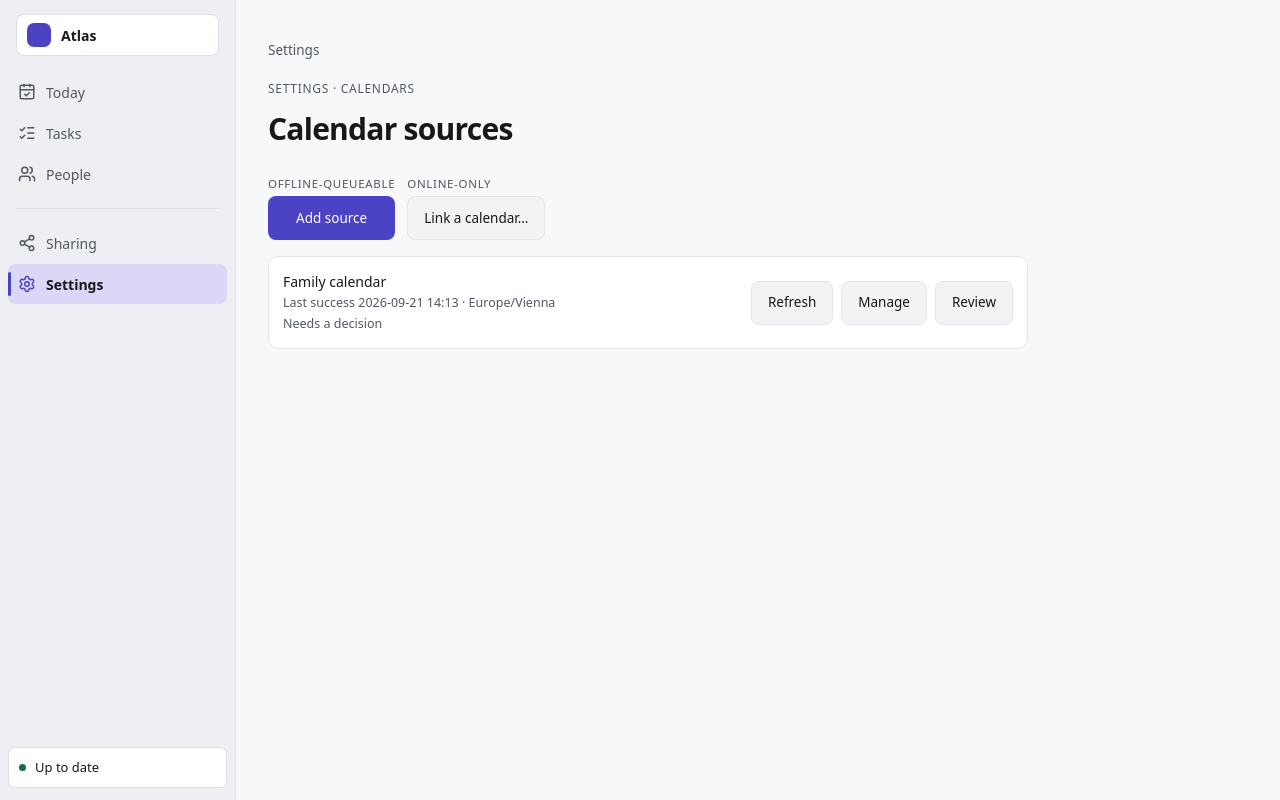
Test: Manage: queued settings (D-13a-8, D-13a-12) › a version conflict offers Review, and Save there REPLACES the conflicted draft (supersede), never adds another
Expected: the heading "Calendar sources" is shown, [268,108,513,149]
Expected: the list item "Family calendar" shows "Needs a decision", [283,315,382,332]
Step 1. Click the button "Review" → point(974, 302), box [935,280,1013,324]
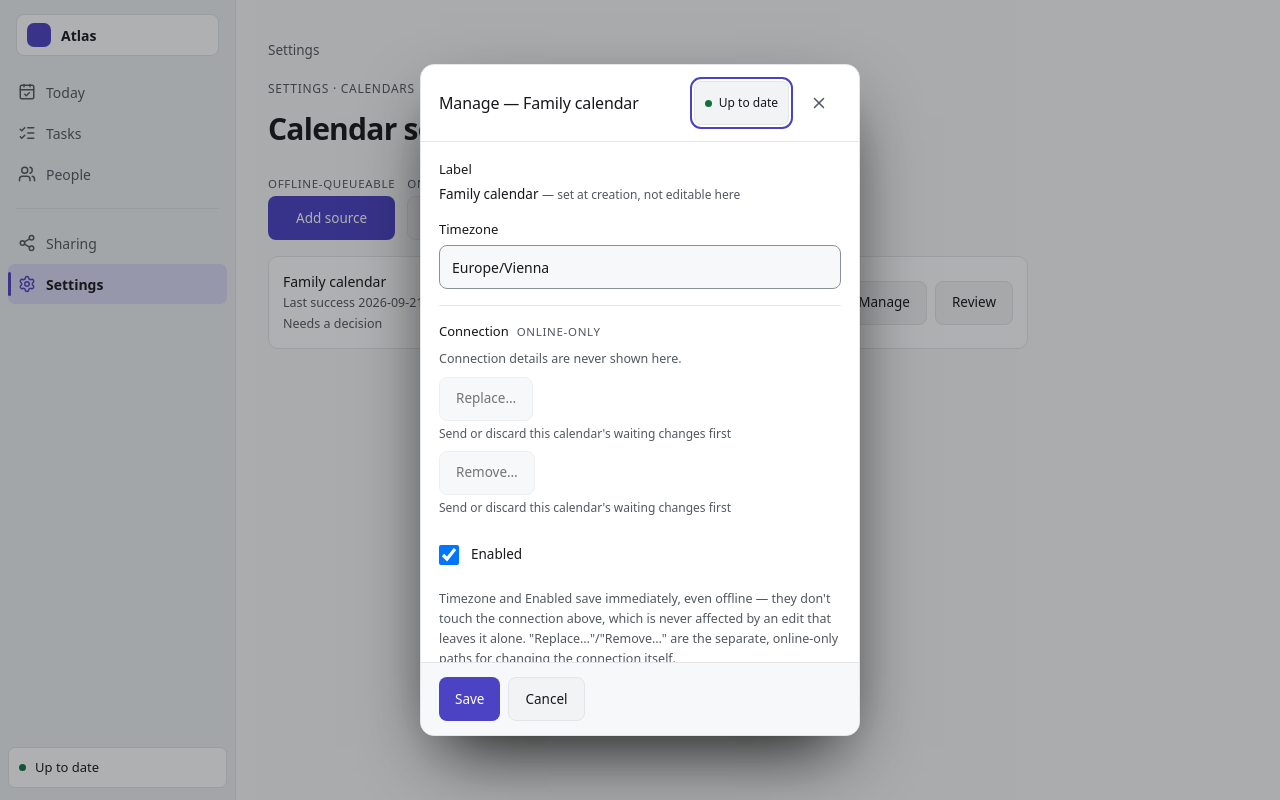
Step 2. Replace the text in the field labelled "Timezone" with "Asia/Tokyo" → point(640, 267), box [439,245,841,289]
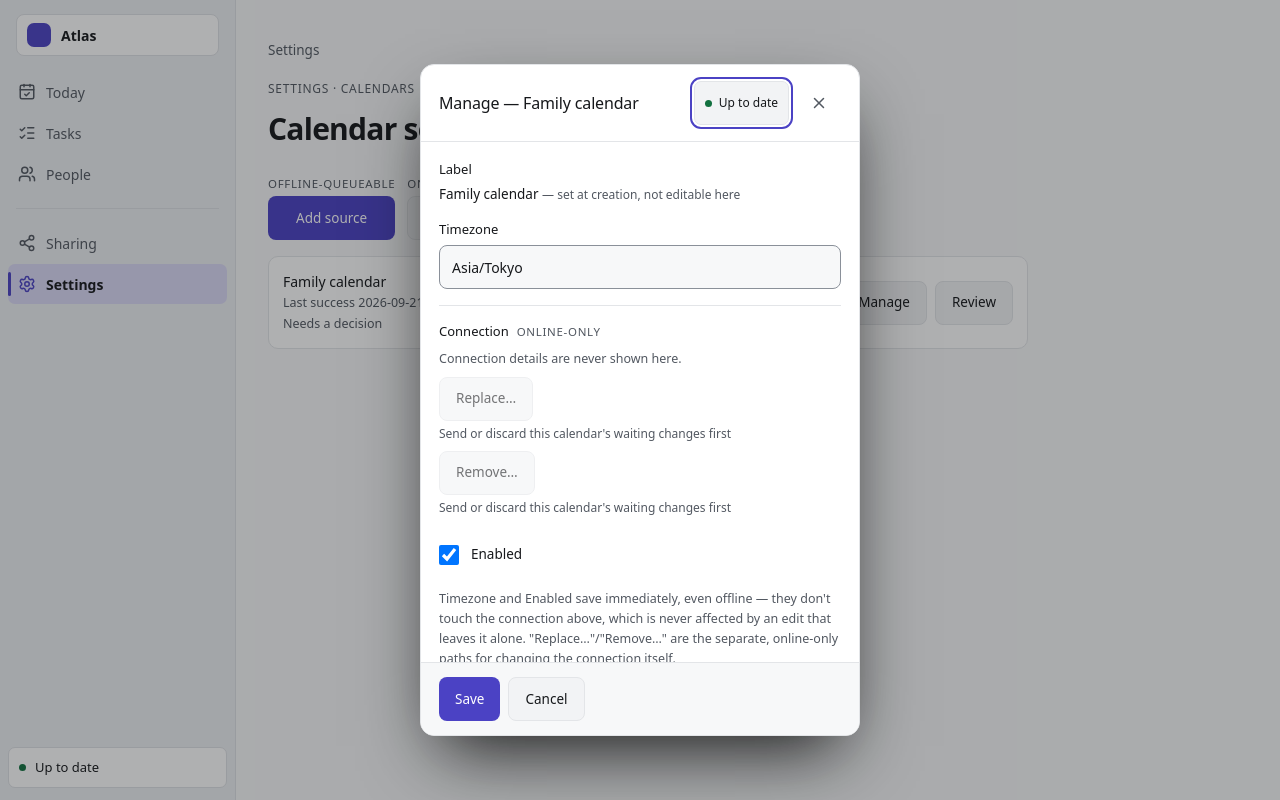
Step 3. Click the button "Save" → point(470, 699), box [439,677,500,721]
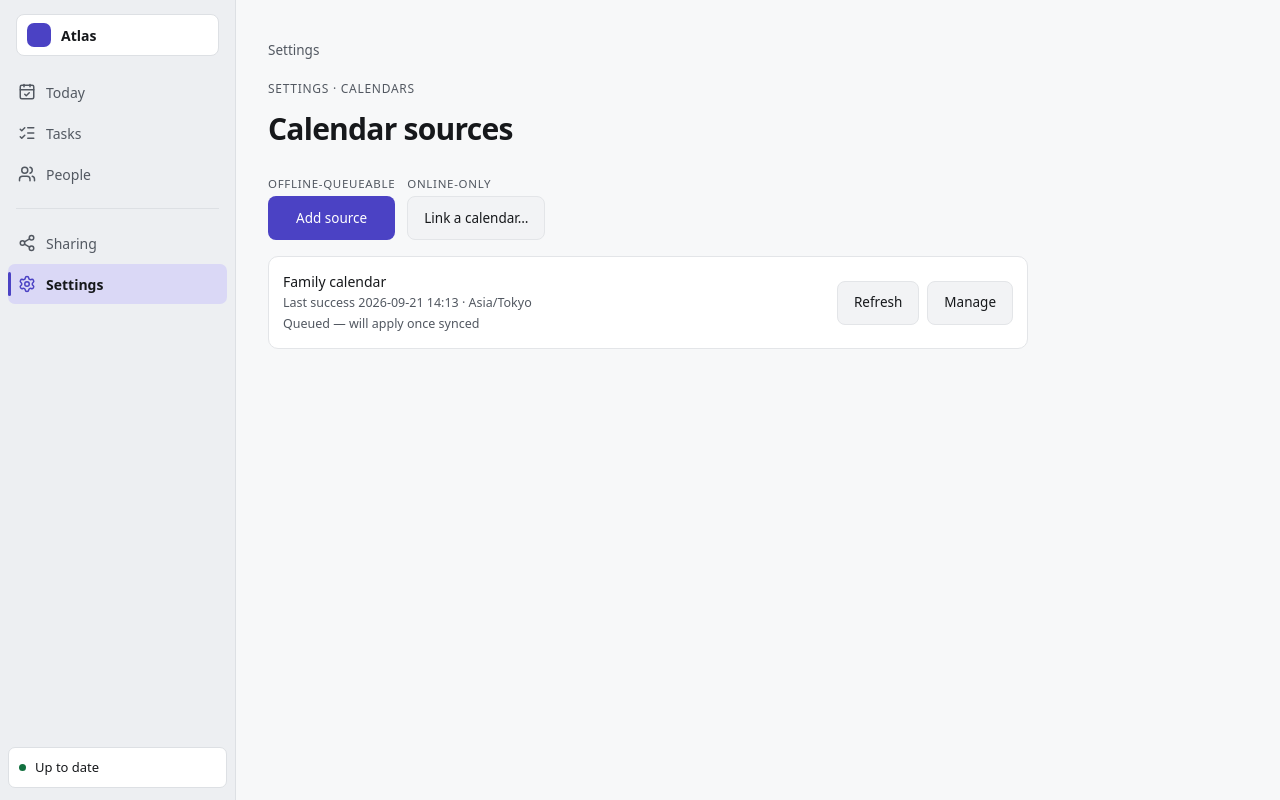
Expected: the dialog is gone
